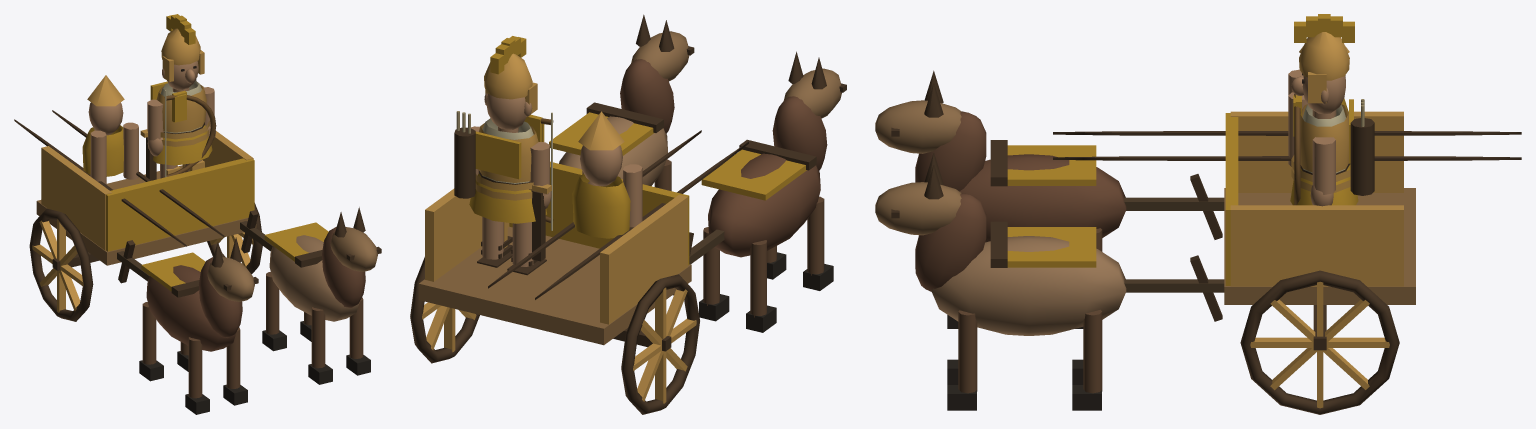
File: chariot_team3.glb
The picture shows the model from 3 angles, left to right: view 1: azimuth 30°, elevation 25°; view 2: azimuth 150°, elevation 25°; view 3: azimuth 270°, elevation 25°; orthographic projection. The views are drawn at different scales.
Visible parts, largest first — view 1: part_23, part_24, part_21, part_11, part_12, part_1, part_19, part_15, part_13, part_0, part_17, part_16 (+4 smaller); view 2: part_23, part_24, part_21, part_11, part_0, part_13, part_1, part_15, part_12, part_14, part_7, part_5 (+4 smaller); view 3: part_23, part_24, part_21, part_11, part_0, part_1, part_18, part_20, part_12, part_4, part_2.
Part boxes in pixels (bbox=[...]): part_23: bbox=[29, 158, 381, 351]; part_24: bbox=[32, 131, 253, 312]; part_21: bbox=[14, 102, 224, 246]; part_11: bbox=[150, 79, 212, 165]; part_12: bbox=[156, 84, 209, 146]; part_1: bbox=[161, 28, 204, 81]; part_19: bbox=[308, 307, 332, 384]; part_15: bbox=[185, 337, 209, 414]; part_13: bbox=[139, 302, 163, 381]; part_0: bbox=[162, 14, 198, 89]; part_17: bbox=[262, 272, 286, 351]; part_16: bbox=[223, 327, 247, 405]; part_23: bbox=[410, 14, 846, 414]; part_24: bbox=[422, 188, 696, 403]; part_21: bbox=[488, 130, 748, 299]; part_11: bbox=[454, 111, 546, 223]; part_0: bbox=[484, 36, 532, 129]; part_13: bbox=[746, 240, 776, 332]; part_1: bbox=[484, 53, 537, 115]; part_15: bbox=[803, 196, 833, 290]; part_12: bbox=[475, 123, 538, 200]; part_14: bbox=[699, 227, 729, 321]; part_7: bbox=[477, 217, 512, 267]; part_5: bbox=[507, 222, 546, 275]; part_23: bbox=[875, 70, 1415, 414]; part_24: bbox=[1230, 111, 1403, 408]; part_21: bbox=[1053, 69, 1521, 166]; part_11: bbox=[1290, 95, 1374, 205]; part_0: bbox=[1291, 14, 1354, 114]; part_1: bbox=[1299, 32, 1349, 103]; part_18: bbox=[1072, 309, 1102, 410]; part_20: bbox=[947, 310, 977, 410]; part_12: bbox=[1291, 104, 1350, 192]; part_4: bbox=[1310, 137, 1335, 206]; part_2: bbox=[1294, 94, 1300, 205].
Bounding box in the file's own units: 2.02 × 2.85 × 4.55.
